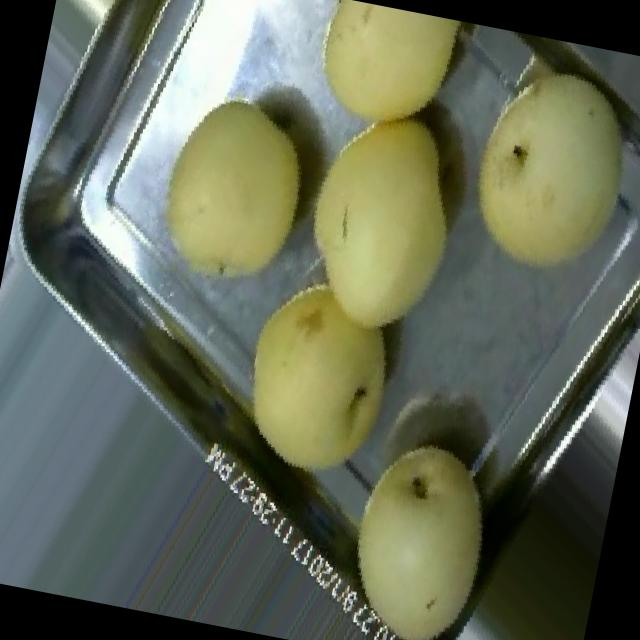Fruit: (198, 252, 442, 517), (267, 76, 491, 356), (430, 30, 640, 305), (128, 68, 340, 316), (304, 409, 522, 640), (280, 0, 495, 162)
